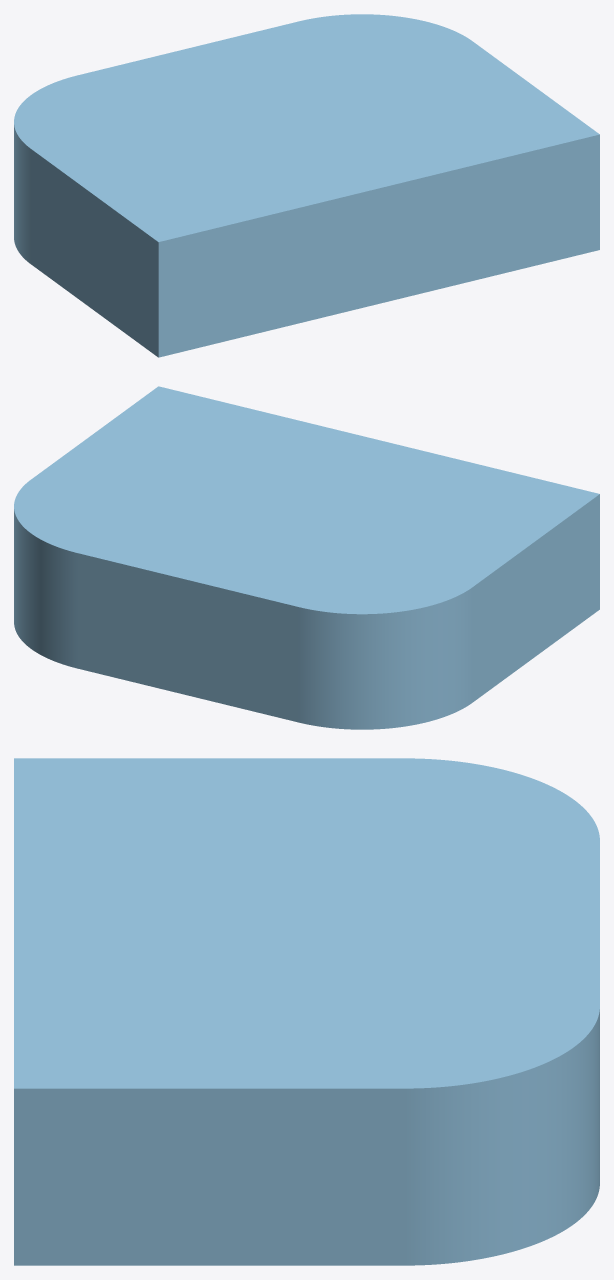
The picture shows the model from 3 angles, top to bottom: view 1: azimuth 30°, elevation 25°; view 2: azimuth 150°, elevation 25°; view 3: azimuth 270°, elevation 25°; orthographic projection. The views are drawn at different scales.
Parts seen in each view (by area): view 1: 5a85aa6006e4570fe46e2182; view 2: 5a85aa6006e4570fe46e2182; view 3: 5a85aa6006e4570fe46e2182.
Boxes of the visible parts, x1,y1,x2,y2 form: 5a85aa6006e4570fe46e2182: [14, 14, 599, 357]; 5a85aa6006e4570fe46e2182: [14, 386, 599, 729]; 5a85aa6006e4570fe46e2182: [14, 758, 599, 1265].
Bounding box in the file's own units: 4 × 3 × 1.
